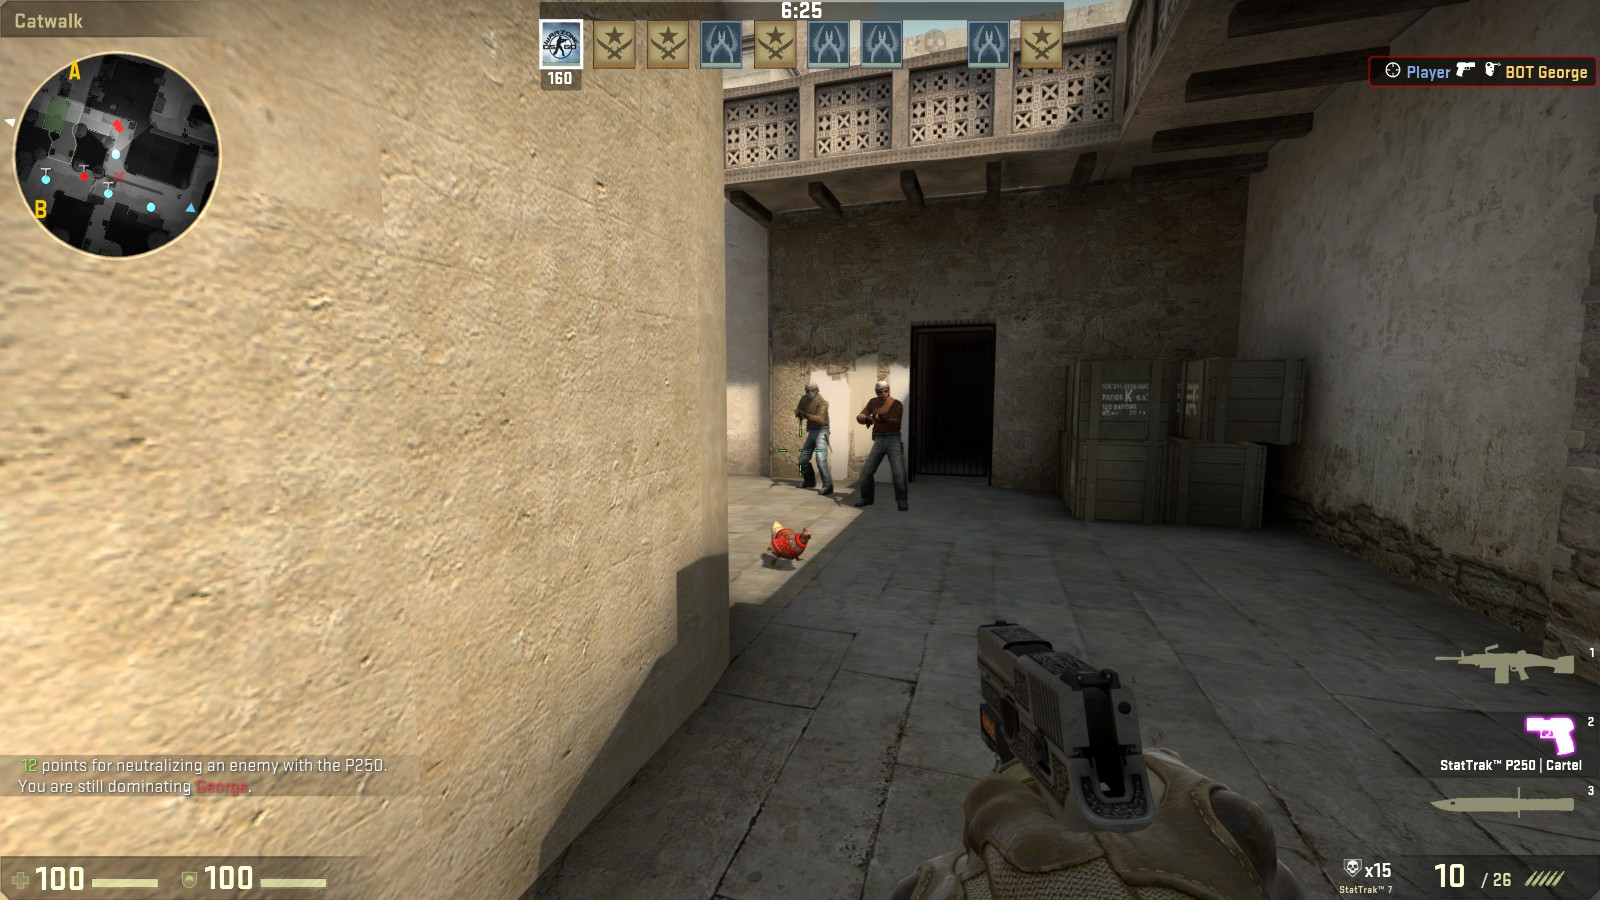t: (858, 379, 903, 510), (795, 379, 831, 495)
th: (873, 380, 898, 400), (802, 380, 823, 400)
